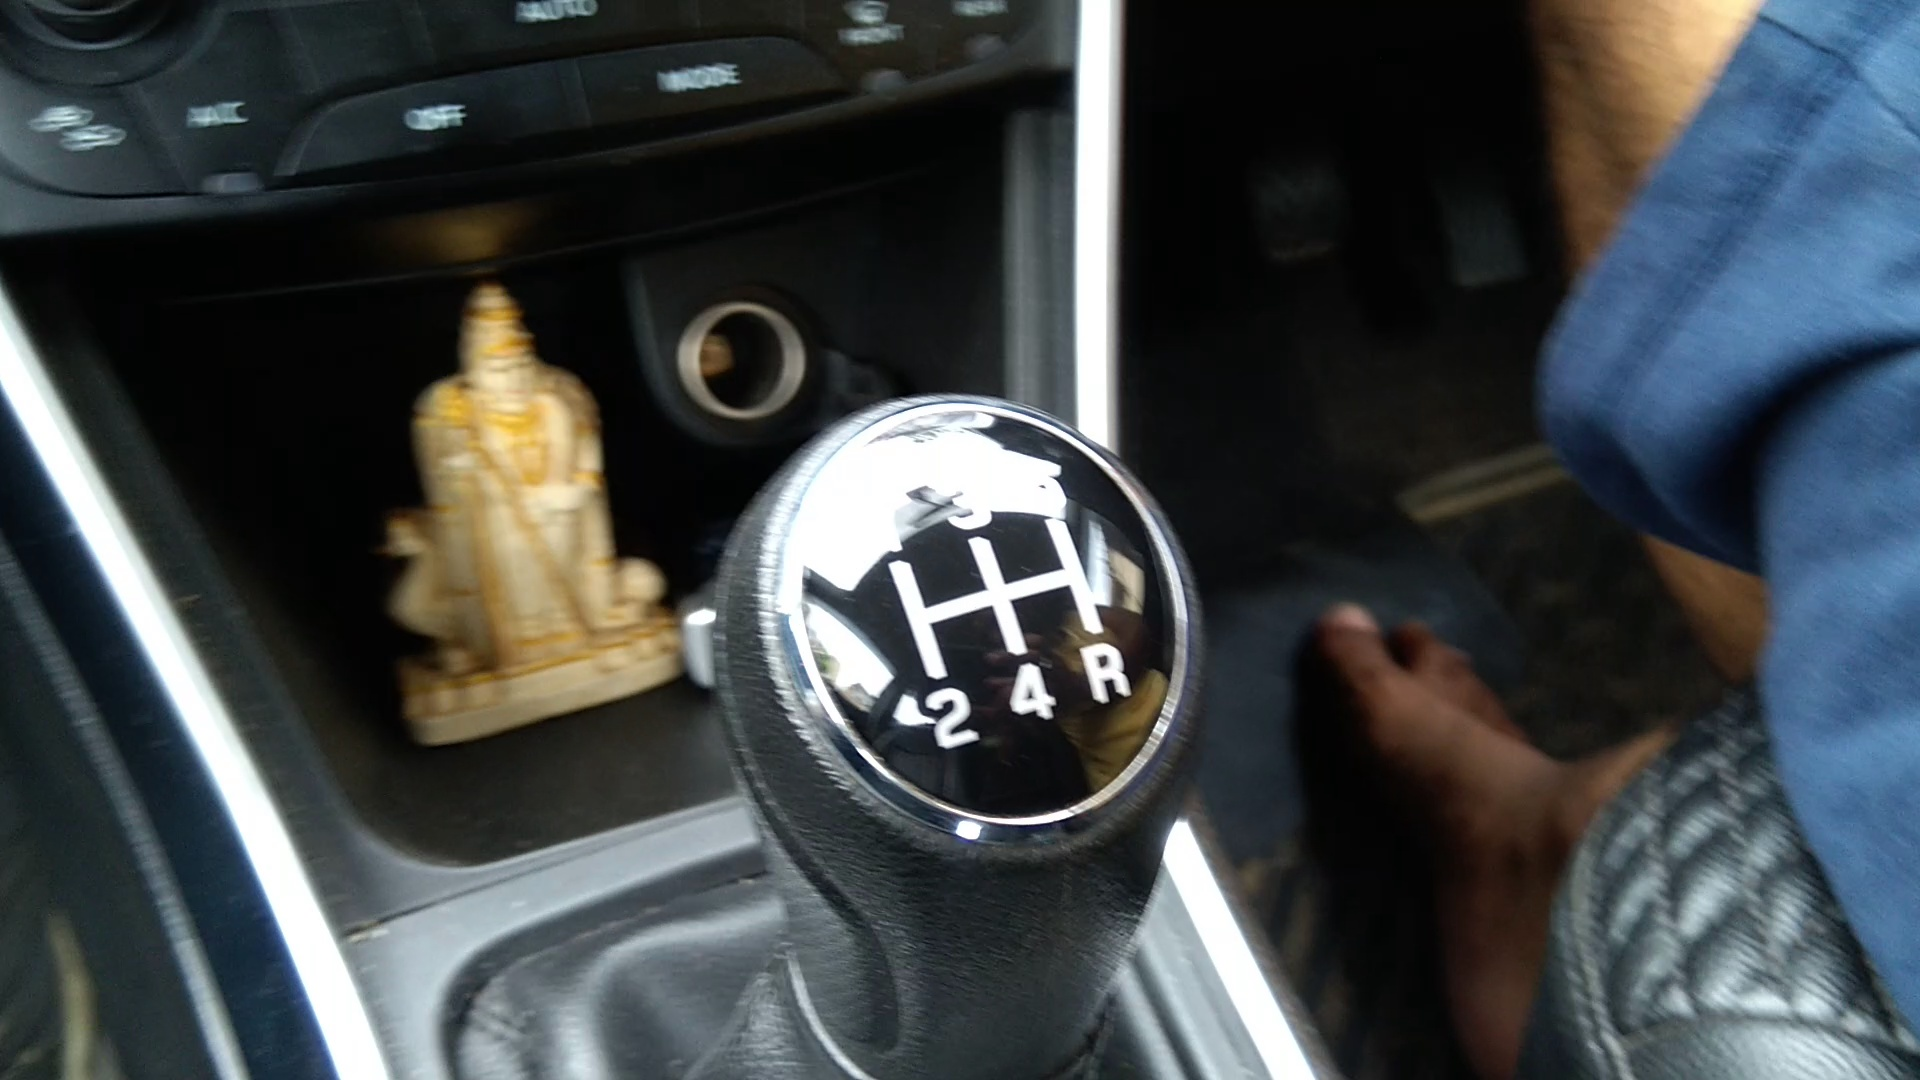manual_gear: (716, 386, 1199, 1067)
